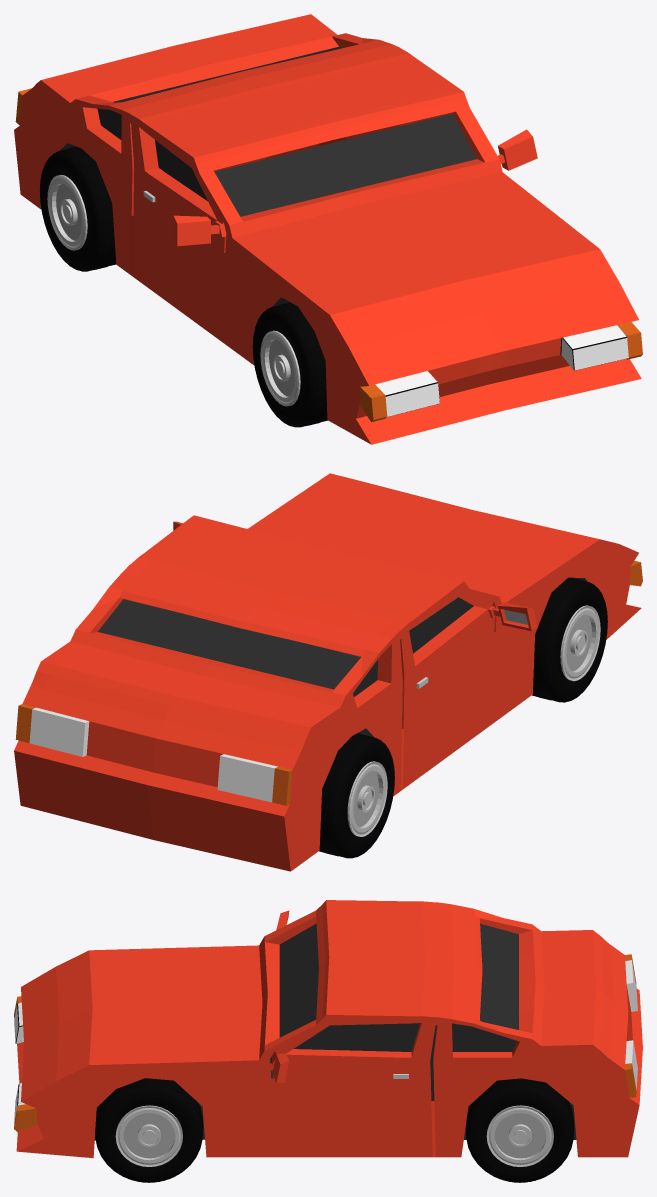
3 renders of one model, top to bottom at view 1: azimuth 30°, elevation 25°; view 2: azimuth 150°, elevation 25°; view 3: azimuth 270°, elevation 25°, orthographic. The views are drawn at different scales.
Visible parts, largest first — view 1: BODY46, WHEEL.004, WHEEL.001; view 2: BODY46, WHEEL.001, WHEEL.004; view 3: BODY46, WHEEL.002, WHEEL.003.
Boxes of the visible parts, x1=… form: BODY46: x1=14, y1=14, x2=642, y2=444; WHEEL.004: x1=39, y1=146, x2=116, y2=271; WHEEL.001: x1=252, y1=302, x2=327, y2=427; BODY46: x1=14, y1=473, x2=642, y2=871; WHEEL.001: x1=532, y1=577, x2=607, y2=702; WHEEL.004: x1=319, y1=733, x2=394, y2=858; BODY46: x1=14, y1=900, x2=642, y2=1158; WHEEL.002: x1=465, y1=1078, x2=574, y2=1182; WHEEL.003: x1=95, y1=1078, x2=203, y2=1182.
Size of the model in its own units: 131 by 65.61 by 227.
